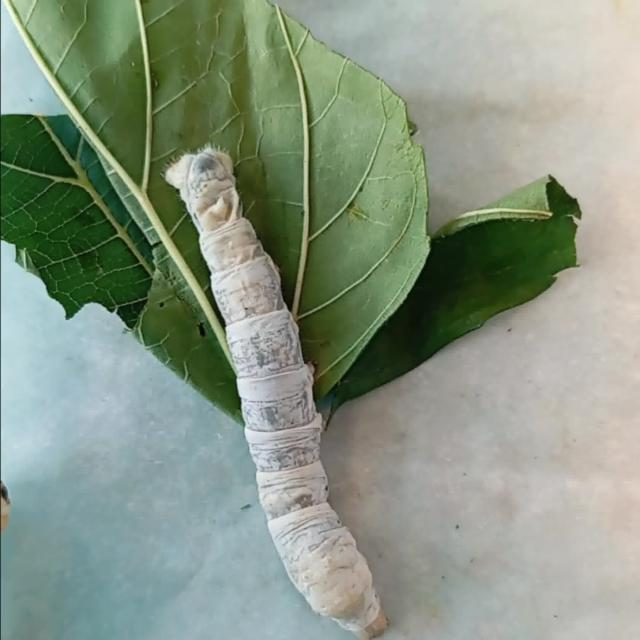Grasserie: (113, 111, 447, 640)
